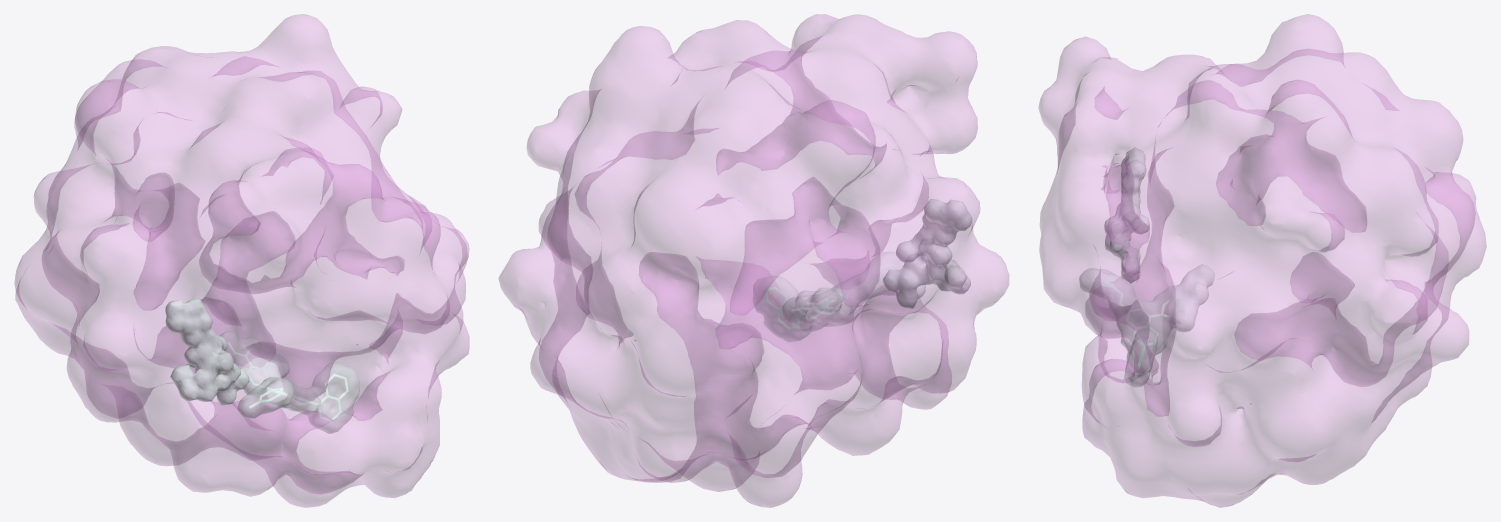
3 views of the same model, side by side, from view 1: azimuth 30°, elevation 25°; view 2: azimuth 150°, elevation 25°; view 3: azimuth 270°, elevation 25° (orthographic). The views are drawn at different scales.
Parts seen in each view (by area): view 1: KRAS, KRAS_GC12_inhibitor_Outer, CYS-12, KRAS_GC12_inhibitor_inner; view 2: KRAS, KRAS_GC12_inhibitor_Outer, CYS-12, KRAS_GC12_inhibitor_inner; view 3: KRAS, KRAS_GC12_inhibitor_Outer, CYS-12, KRAS_GC12_inhibitor_inner.
Boxes of the visible parts, x1=… form: KRAS: x1=14, y1=14, x2=469, y2=507; KRAS_GC12_inhibitor_Outer: x1=220, y1=331, x2=359, y2=433; CYS-12: x1=165, y1=298, x2=249, y2=405; KRAS_GC12_inhibitor_inner: x1=228, y1=342, x2=348, y2=421; KRAS: x1=498, y1=14, x2=1009, y2=507; KRAS_GC12_inhibitor_Outer: x1=753, y1=252, x2=925, y2=341; CYS-12: x1=883, y1=199, x2=972, y2=308; KRAS_GC12_inhibitor_inner: x1=765, y1=264, x2=900, y2=330; KRAS: x1=1038, y1=14, x2=1486, y2=507; KRAS_GC12_inhibitor_Outer: x1=1079, y1=264, x2=1214, y2=387; CYS-12: x1=1104, y1=147, x2=1149, y2=283; KRAS_GC12_inhibitor_inner: x1=1091, y1=275, x2=1203, y2=376.
Size of the model in its own units: 211 by 233 by 217.
